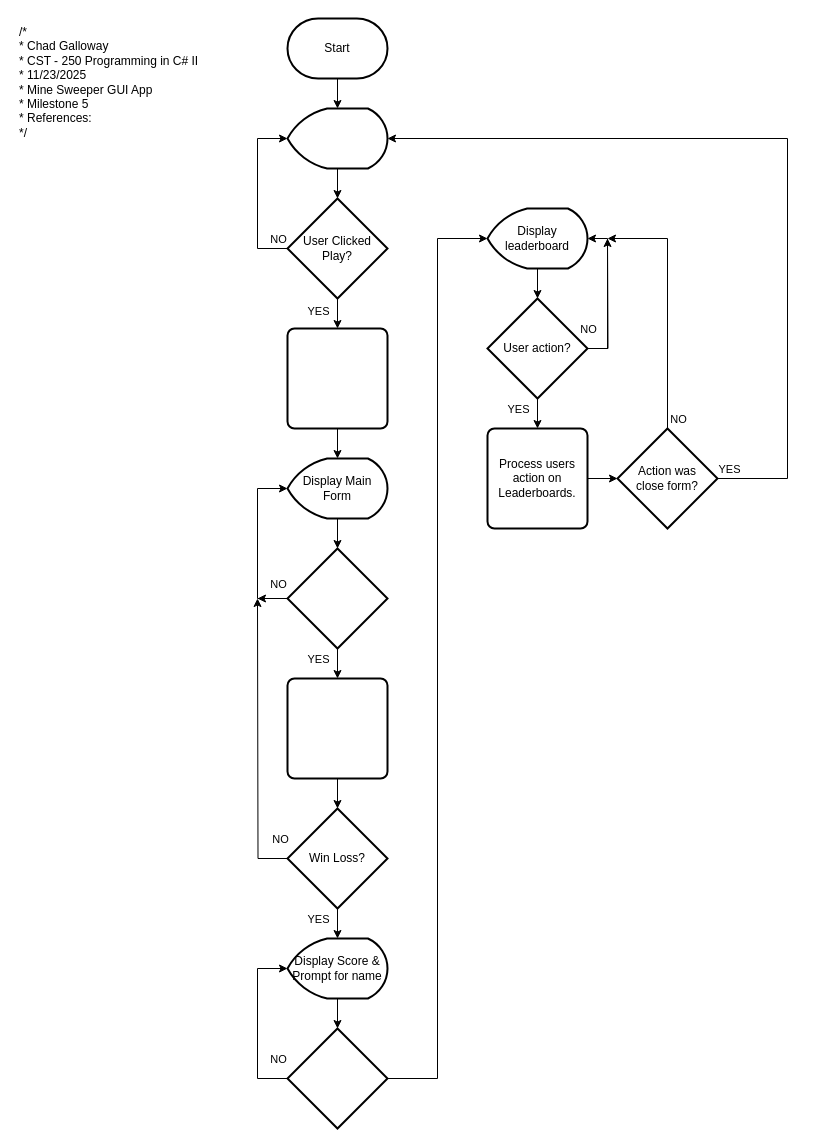
This 813x1146 diagram has some shape labels left out. The shapes that lost their labels are listed below. From the top down, each one's centre as x and y in pixels, then its label:
(337,138): Display Settings Form
(337,378): Close Settings form. Create Main Form based on Settings data.
(337,598): User made an action
(337,728): Process users action for win loss and repaint the board
(337,1078): User Entered Name?
